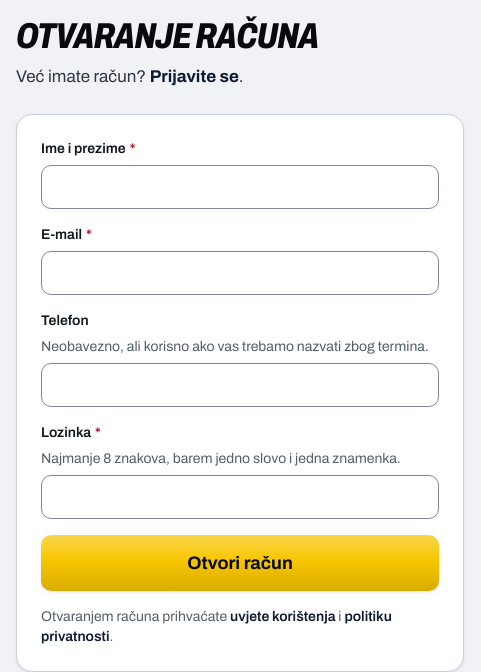
obrazac za otvaranje računa › prazan obrazac ne šalje ništa na poslužitelj
The width and height of the screenshot is (481, 672).
Click the button "Otvori račun" at x=240, y=562, box [41,534,439,590]
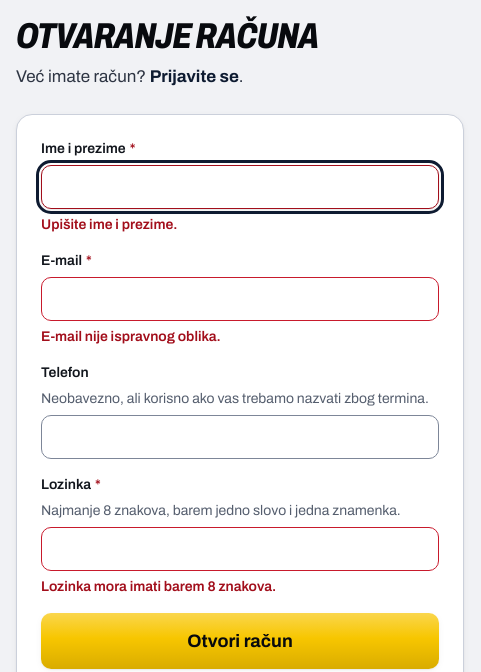
Check: the text "Upišite ime i prezime." is shown, box [41,216,178,232]
